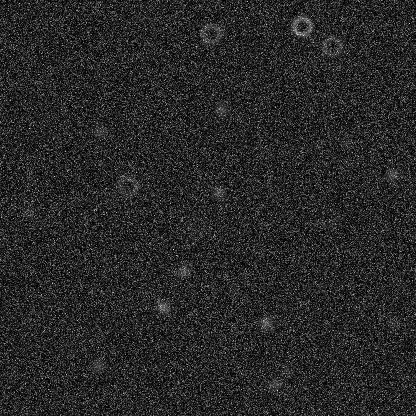Ring: (184, 212, 208, 236), (198, 21, 222, 45), (315, 206, 339, 230), (320, 34, 344, 58), (115, 173, 139, 197), (289, 14, 313, 38)
Spot: (337, 135, 353, 151), (224, 280, 240, 296), (385, 315, 401, 331), (90, 122, 106, 138), (279, 363, 295, 379), (209, 184, 225, 200), (175, 262, 191, 278), (90, 357, 106, 373), (101, 189, 117, 205), (20, 204, 36, 220), (257, 315, 273, 331), (213, 101, 229, 117), (266, 376, 282, 392), (384, 166, 400, 182), (154, 298, 170, 314)
